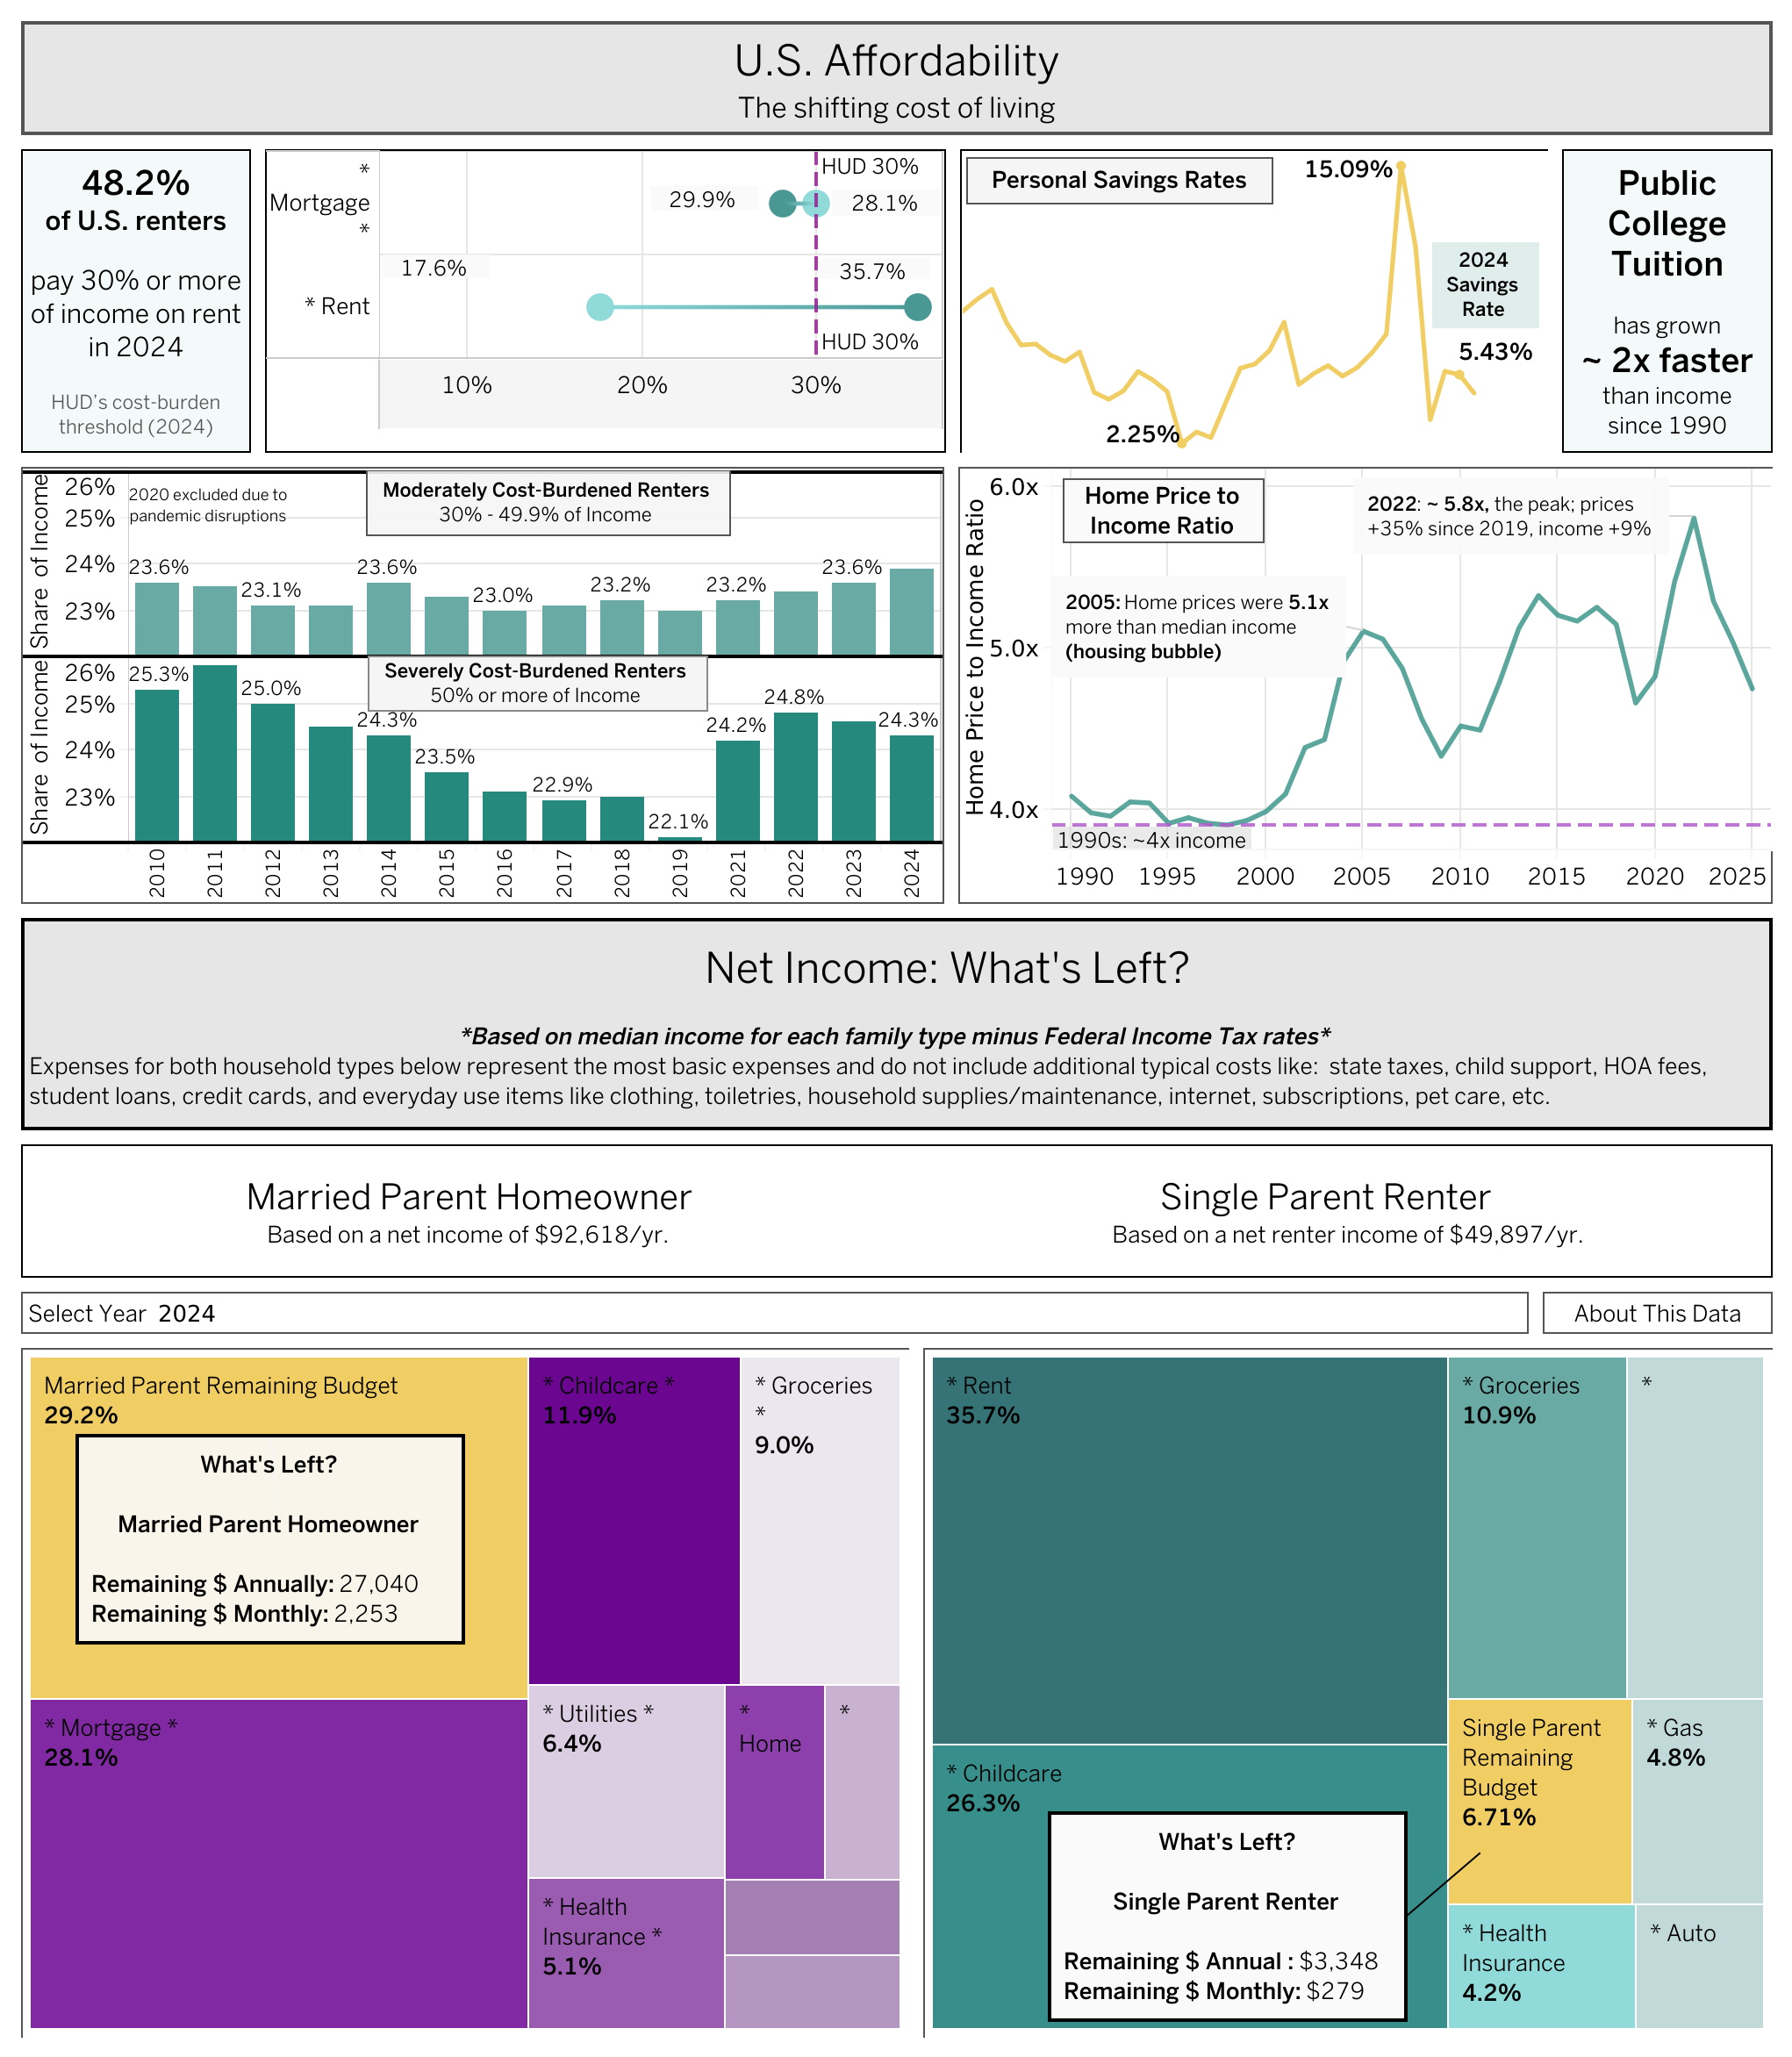

This screenshot's page, from the dashboard's own definition file:
{"tool":"tableau","page":{"name":"U.S. Affordability","canvas":[1022,1173],"ordinal":0},"visuals":[{"type":"text","box":[8,8,1006,73]},{"type":"text","box":[8,81,139,181]},{"type":"worksheet","title":"KPI: Rent Vs. Mortgage Burden: 1990 - 2024","mark":"Circle","box":[147,81,396,181]},{"type":"worksheet","title":"KPI: Savings Rate","mark":"Automatic","rows":["Savings_Rate_Pct"],"cols":["Year"],"box":[543,81,343,181]},{"type":"text","box":[886,81,128,181]},{"type":"worksheet","title":"Cost-Burdened Renters","mark":"Bar","cols":["Year"],"box":[8,262,533.9,257]},{"type":"worksheet","title":"Home Cost v Income Ratio","mark":"Line","rows":["Calculation_2019660926935040"],"cols":["Year"],"box":[541.9,262,472,257]},{"type":"text","box":[70,269,97,38]},{"type":"text","box":[8,519,1006,129]},{"type":"text","box":[8,648,1006,84]},{"type":"parameter","param":"[Parameters].[Parameter 4099933894447109]","box":[8,732,867,32]},{"type":"dashboard-object","box":[875,732,139,32]},{"type":"worksheet","title":"2024 - Living Costs: Married Homeowner w/Child","mark":"Automatic","box":[8,764,514,401]},{"type":"worksheet","title":"2024 - Living Costs: Single Renter w/Child","mark":"Automatic","box":[522,764,492,401]}]}

Visuals, with their boxes in screenshot pixels (x1, y1, x2, y2), scaled from the page's 1022x1173 canvas onto the 1792x2057 screenshot:
text: detection(14, 14, 1778, 142)
text: detection(14, 142, 258, 460)
"KPI: Rent Vs. Mortgage Burden: 1990 - 2024" worksheet (Circle marks): detection(258, 142, 952, 460)
"KPI: Savings Rate" worksheet: detection(952, 142, 1553, 460)
text: detection(1553, 142, 1778, 460)
"Cost-Burdened Renters" worksheet (Bar marks): detection(14, 460, 950, 910)
"Home Cost v Income Ratio" worksheet (Line marks): detection(950, 460, 1778, 910)
text: detection(123, 472, 293, 538)
text: detection(14, 910, 1778, 1136)
text: detection(14, 1136, 1778, 1284)
parameter: detection(14, 1284, 1534, 1340)
dashboard-object: detection(1534, 1284, 1778, 1340)
"2024 - Living Costs: Married Homeowner w/Child" worksheet: detection(14, 1340, 915, 2043)
"2024 - Living Costs: Single Renter w/Child" worksheet: detection(915, 1340, 1778, 2043)
